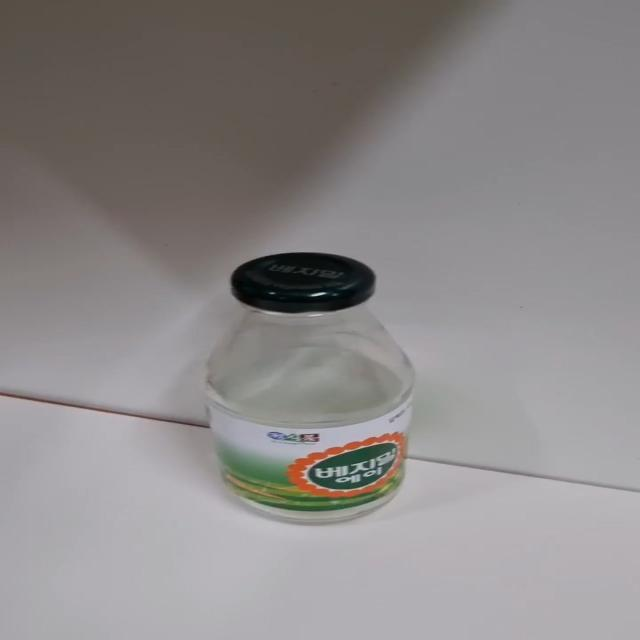Glass: (202, 253, 418, 528)
